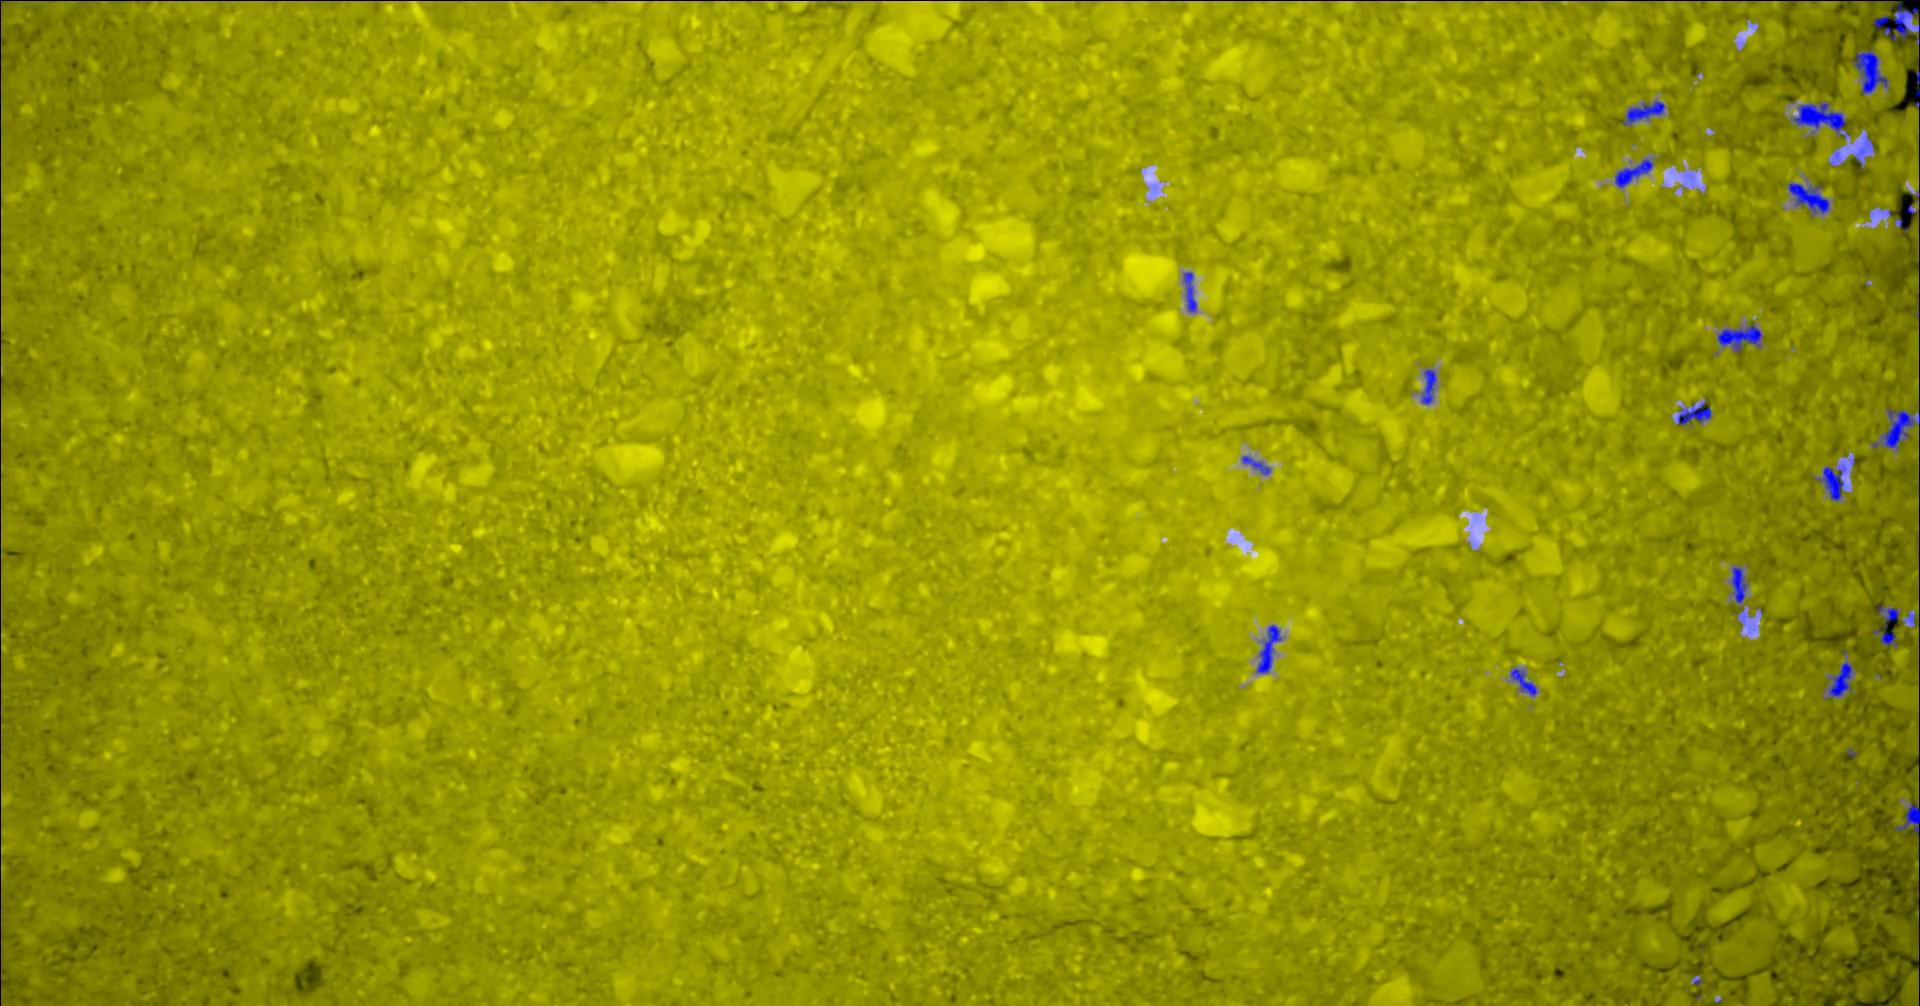ant: (1876, 0, 1920, 108), (1794, 103, 1851, 136), (1854, 50, 1890, 94), (1895, 801, 1920, 859), (1883, 408, 1920, 447), (1789, 182, 1831, 213), (1257, 624, 1283, 673), (1719, 323, 1763, 351), (1816, 465, 1848, 500), (1617, 158, 1655, 187), (1874, 605, 1900, 645), (1827, 661, 1854, 699), (1624, 100, 1666, 124), (1679, 403, 1713, 426), (1511, 668, 1538, 696), (1733, 567, 1749, 611), (1243, 455, 1272, 475), (1185, 271, 1197, 312), (1423, 370, 1437, 404)
